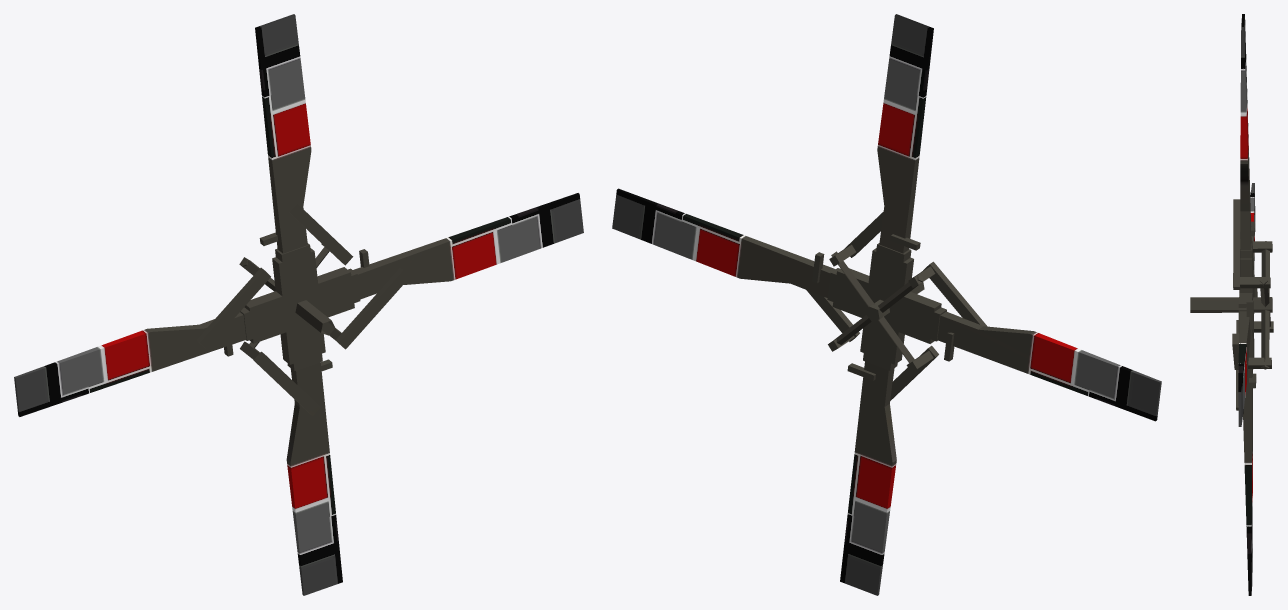
File: Black Hawk uh-60-BBlade2.obj
The picture shows the model from 3 angles, left to right: view 1: azimuth 30°, elevation 25°; view 2: azimuth 150°, elevation 25°; view 3: azimuth 270°, elevation 25°; orthographic projection. The views are drawn at different scales.
Visible parts, largest first — view 1: Black_Hawk_uh-60.003_Black_Hawk_uh-60.002; view 2: Black_Hawk_uh-60.003_Black_Hawk_uh-60.002; view 3: Black_Hawk_uh-60.003_Black_Hawk_uh-60.002.
Boxes of the visible parts, x1=… form: Black_Hawk_uh-60.003_Black_Hawk_uh-60.002: x1=14, y1=14, x2=583, y2=595; Black_Hawk_uh-60.003_Black_Hawk_uh-60.002: x1=612, y1=14, x2=1161, y2=595; Black_Hawk_uh-60.003_Black_Hawk_uh-60.002: x1=1190, y1=14, x2=1273, y2=595.
Bounding box in the file's own units: 2.72 × 2.72 × 0.3751.
